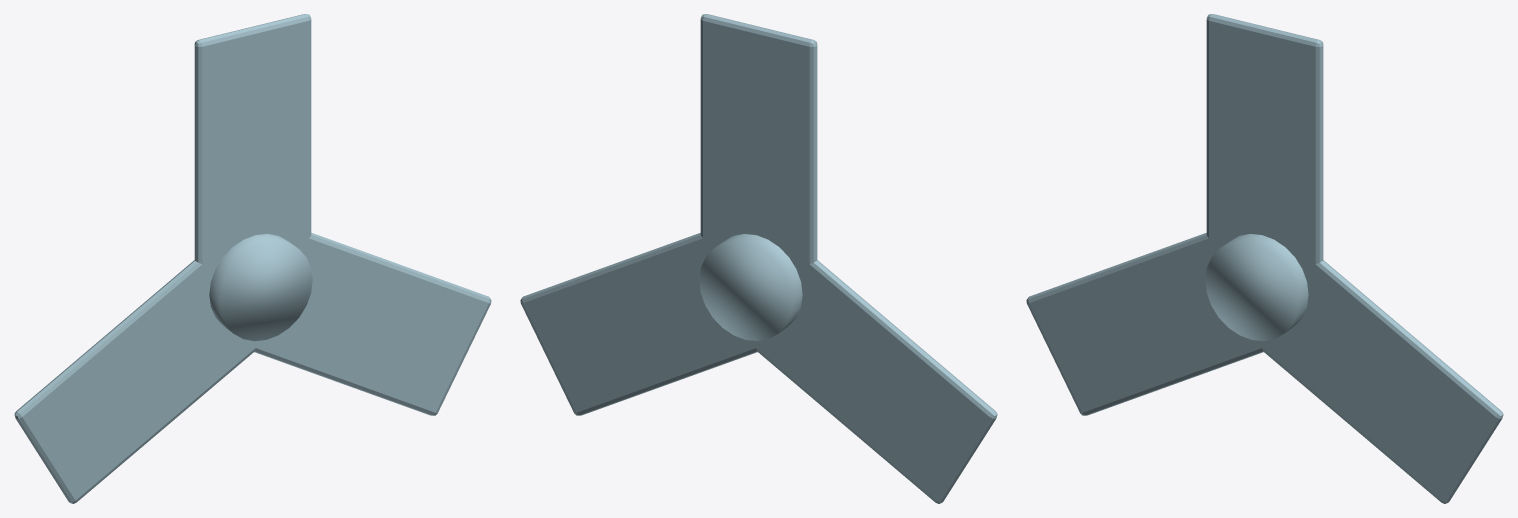
File: fan_blades.fbx
3 renders of one model, left to right at view 1: azimuth 30°, elevation 25°; view 2: azimuth 150°, elevation 25°; view 3: azimuth 330°, elevation 25°, orthographic.
Parts seen in each view (by area): view 1: fan_blades; view 2: fan_blades; view 3: fan_blades.
Part boxes in pixels (bbox=[...]): fan_blades: bbox=[14, 14, 491, 503]; fan_blades: bbox=[520, 14, 997, 503]; fan_blades: bbox=[1026, 14, 1503, 503].
Size of the model in its own units: 0.2053 by 0.1784 by 0.02.
